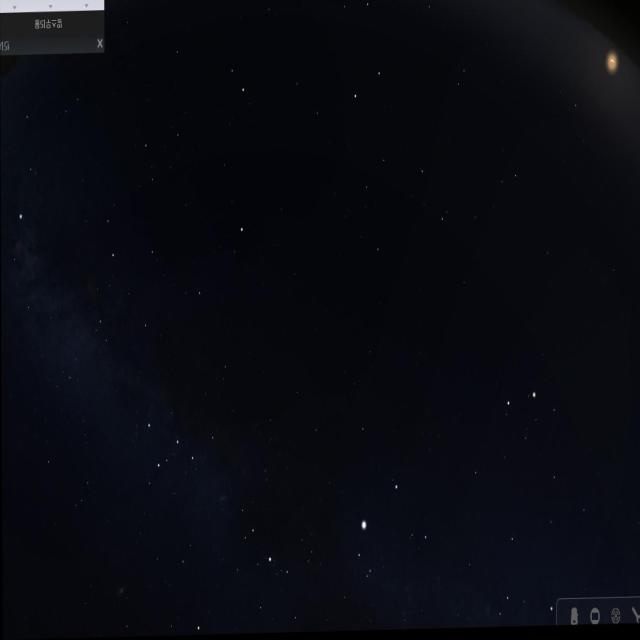cassiopeia: (140, 395, 221, 500)
moon: (590, 32, 628, 109)
